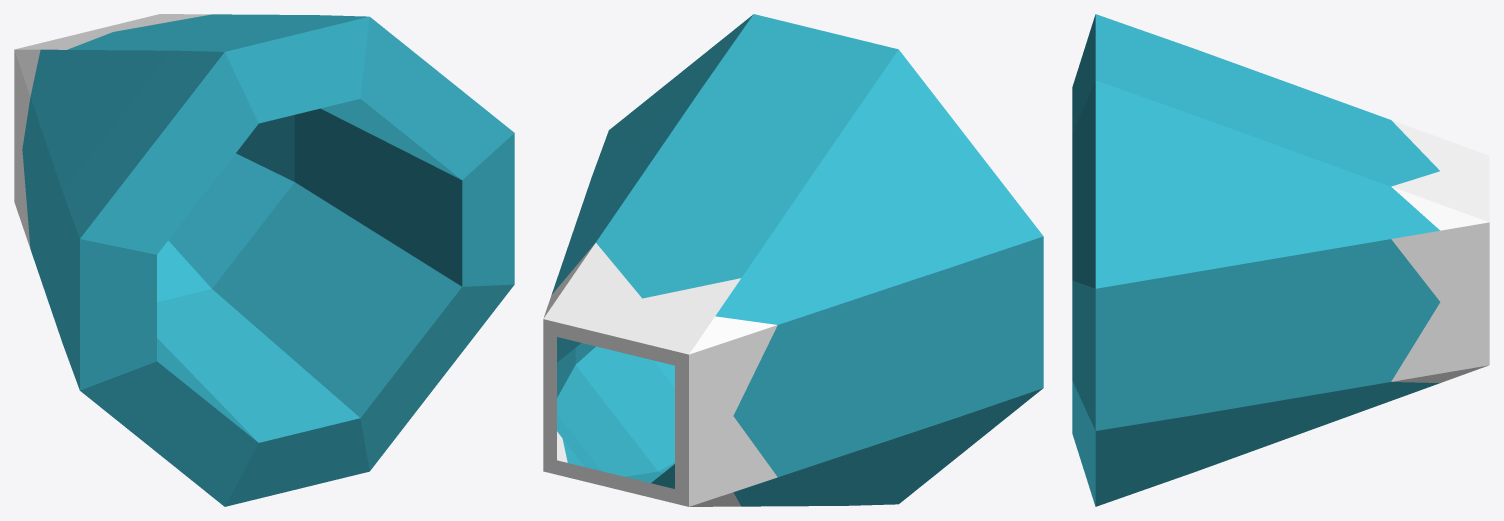
3 views of the same model, side by side, from view 1: azimuth 30°, elevation 25°; view 2: azimuth 150°, elevation 25°; view 3: azimuth 270°, elevation 25° (orthographic). The views are drawn at different scales.
Visible parts, largest first — view 1: group1087224881.002; view 2: group1087224881.002; view 3: group1087224881.002.
Boxes of the visible parts, box(x1,y1,x2,y2) form: group1087224881.002: box(14, 14, 514, 506); group1087224881.002: box(543, 14, 1043, 506); group1087224881.002: box(1072, 14, 1489, 506).
Size of the model in its own units: 1.08 by 1.08 by 0.9619.
